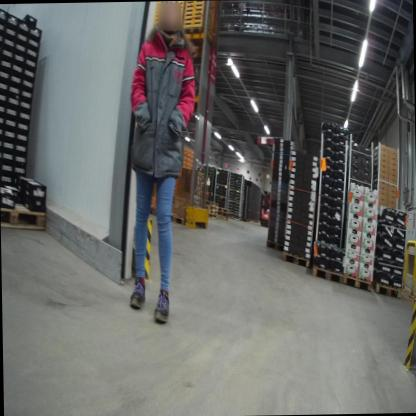pallet: (1, 181, 51, 230), (308, 263, 374, 295), (182, 24, 213, 49), (372, 281, 403, 300), (280, 250, 309, 267), (164, 207, 187, 224), (265, 238, 288, 251), (205, 199, 218, 207), (216, 209, 229, 216), (208, 207, 218, 216), (217, 206, 229, 213), (216, 215, 228, 222), (241, 216, 252, 223), (207, 213, 217, 219), (208, 204, 218, 209)
pallet_truck: (257, 188, 275, 226)
